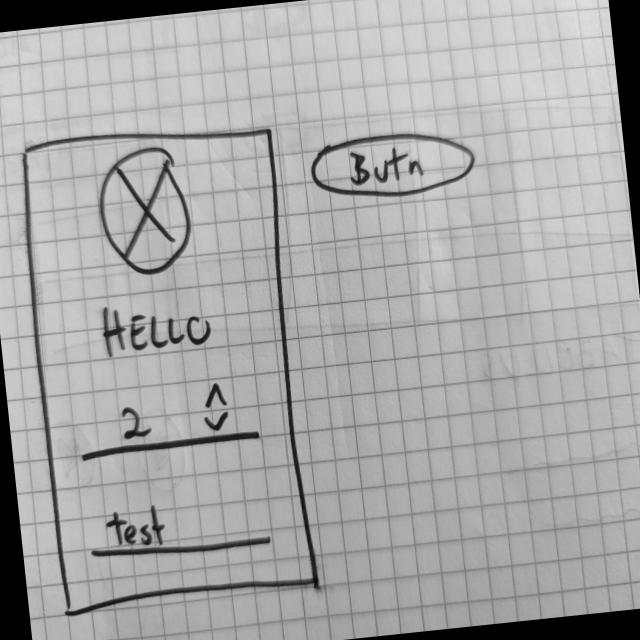button: (307, 124, 481, 206)
container: (13, 115, 323, 621)
image: (94, 143, 198, 281)
input: (85, 490, 278, 566)
label: (94, 294, 218, 367)
number-input: (74, 377, 263, 462)
